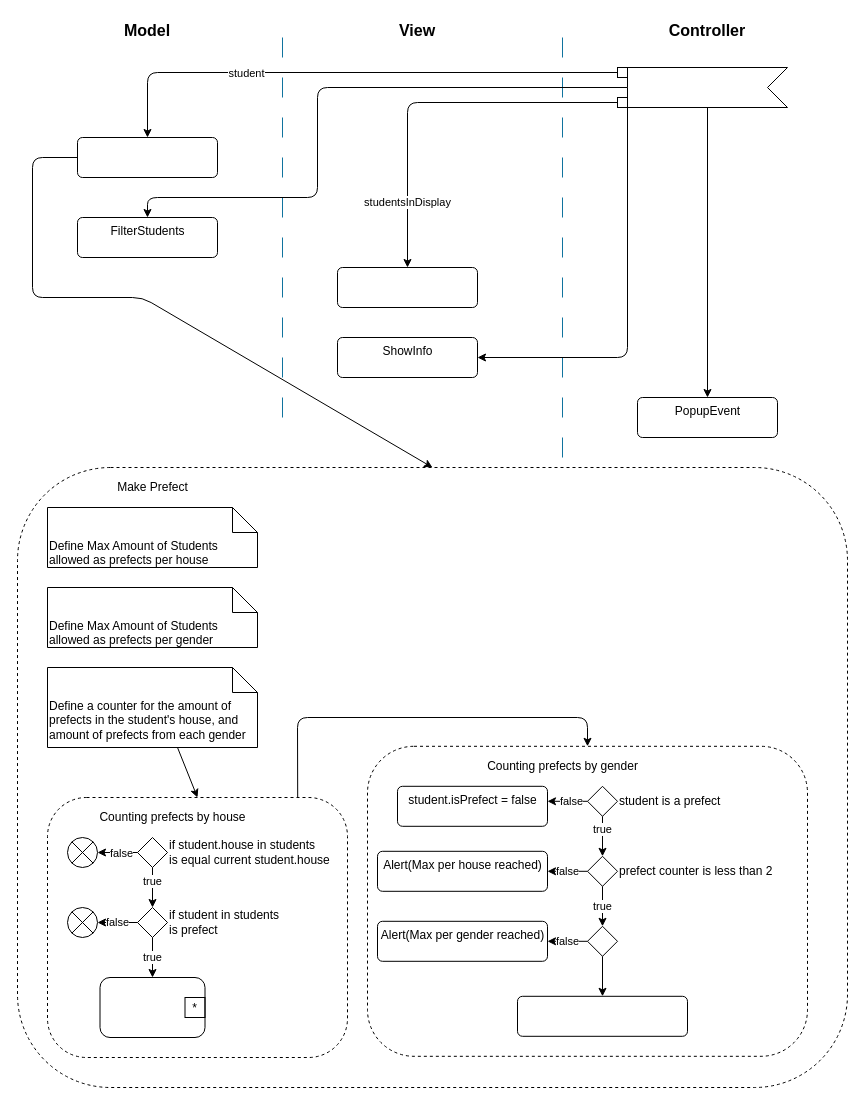
Image size: 865x1105. Some labels were removed from this diagram. Each missing label, with the centre of its shape:
MakePrefect: (x=147, y=157)
Prefect Btn clicked: (x=707, y=87)
prefects++ house++: (x=152, y=1007)
ShowStudents: (x=407, y=287)
student.isPrefect = true: (x=602, y=1015)
